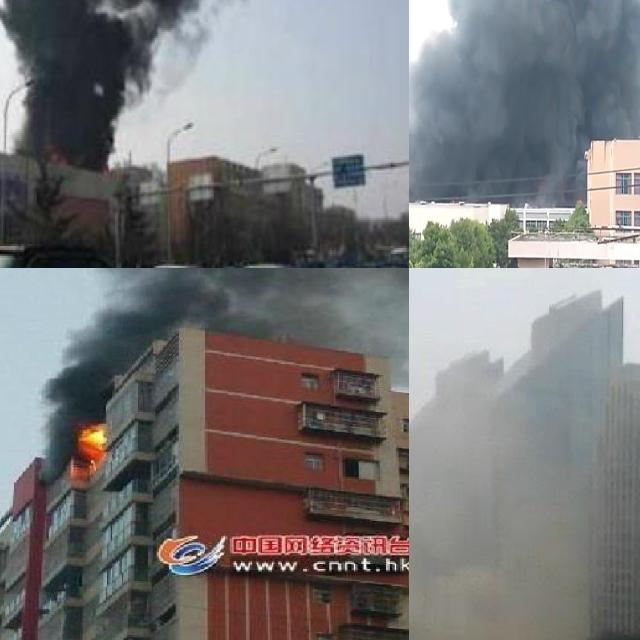fire: (71, 420, 111, 466)
smoke: (0, 0, 409, 162), (39, 268, 409, 440), (409, 0, 640, 196), (456, 569, 545, 640), (493, 569, 580, 640), (409, 562, 478, 640)
